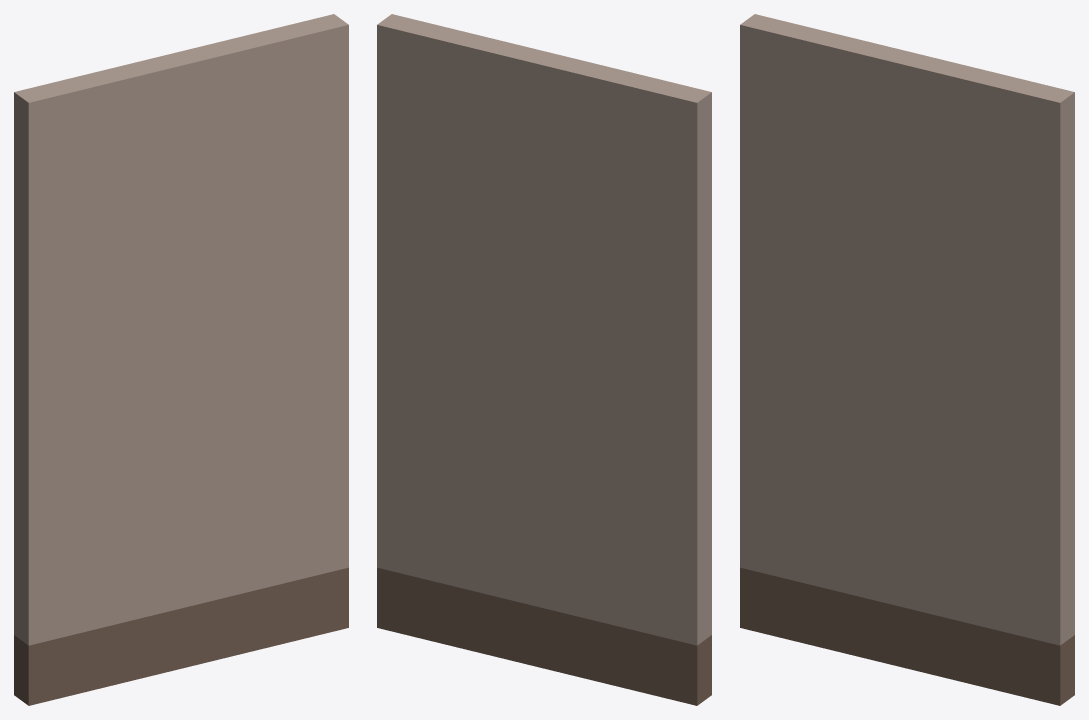
Rendered from Wall2_01.fbx.
3 renders of one model, left to right at view 1: azimuth 30°, elevation 25°; view 2: azimuth 150°, elevation 25°; view 3: azimuth 330°, elevation 25°, orthographic.
Parts seen in each view (by area): view 1: Wall2_01; view 2: Wall2_01; view 3: Wall2_01.
Part boxes in pixels (box(x1,y1,x2,y2)): Wall2_01: box(14, 14, 348, 705); Wall2_01: box(377, 14, 711, 705); Wall2_01: box(740, 14, 1074, 705).
Size of the model in its own units: 500 by 900 by 40.
